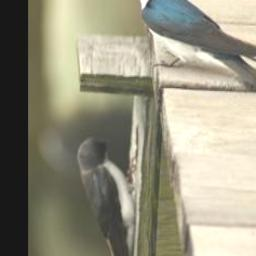Swallow: (125, 0, 256, 85)
